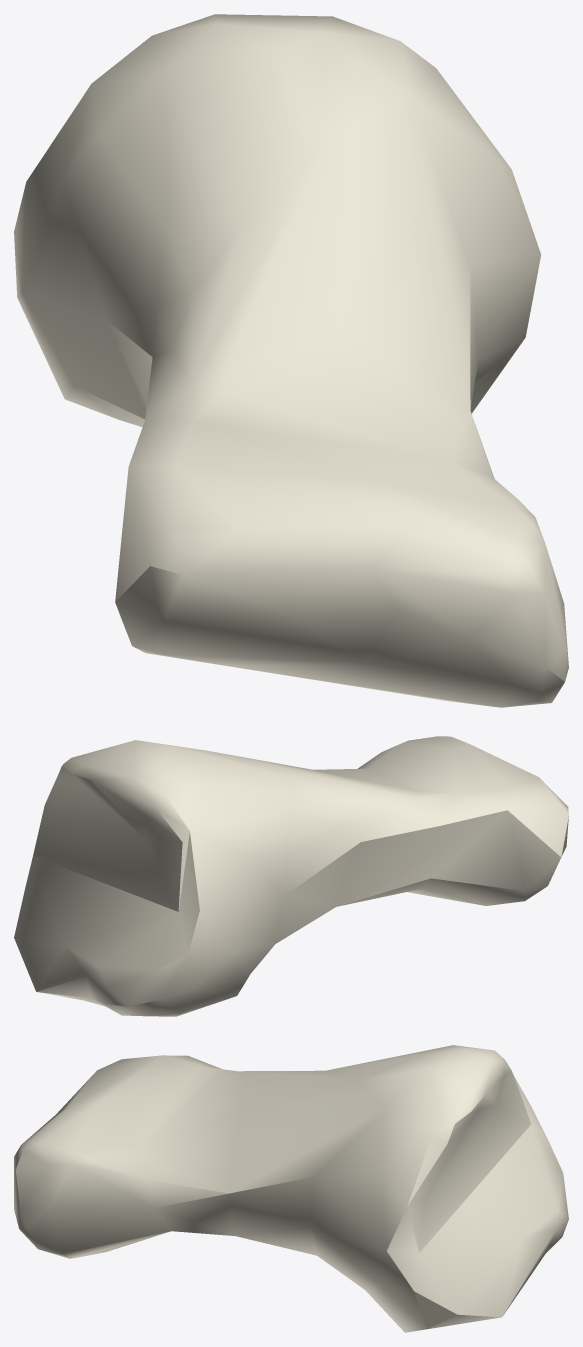
The model's file is fma32644_fj3301.glb.
The picture shows the model from 3 angles, top to bottom: view 1: azimuth 30°, elevation 25°; view 2: azimuth 150°, elevation 25°; view 3: azimuth 270°, elevation 25°; orthographic projection. The views are drawn at different scales.
Visible parts, largest first — view 1: FMA32644_FJ3301; view 2: FMA32644_FJ3301; view 3: FMA32644_FJ3301.
Boxes of the visible parts, left/top/right/bottom form: FMA32644_FJ3301: left=14, top=14, right=568, bottom=707; FMA32644_FJ3301: left=14, top=736, right=568, bottom=1016; FMA32644_FJ3301: left=14, top=1045, right=568, bottom=1332.
Bounding box in the file's own units: 0.0128 × 0.00792 × 0.0169.
